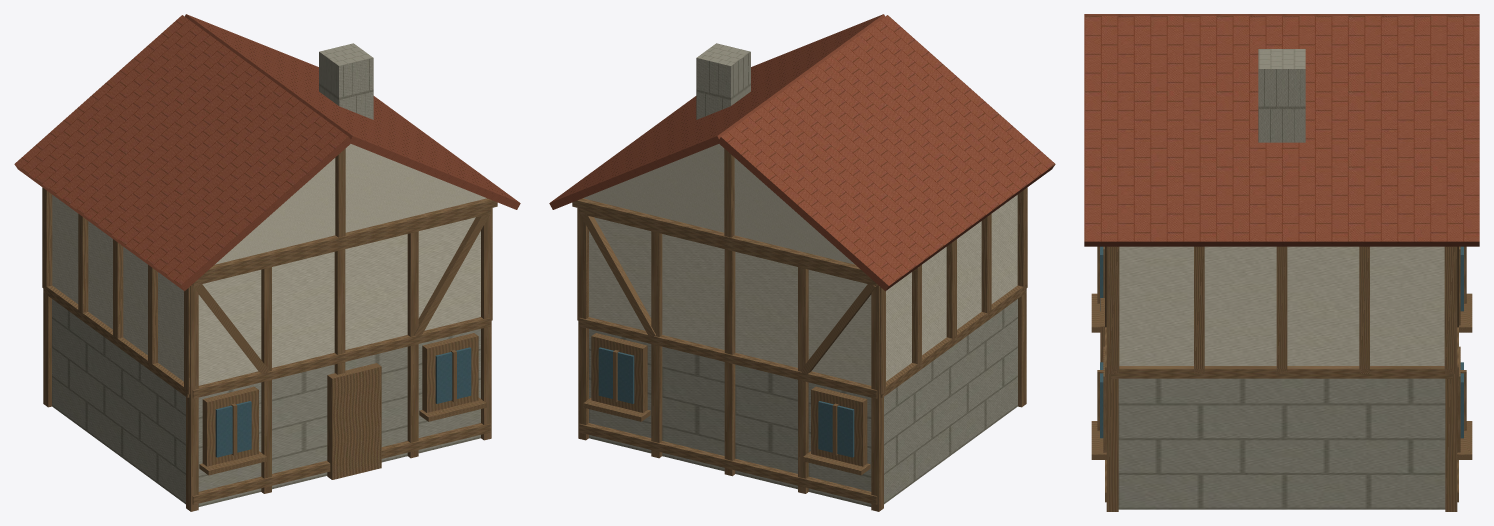
3 renders of one model, left to right at view 1: azimuth 30°, elevation 25°; view 2: azimuth 150°, elevation 25°; view 3: azimuth 270°, elevation 25°, orthographic. The views are drawn at different scales.
Parts seen in each view (by area): view 1: house-roof, house-wood, house-plaster, house-stone, house-glass; view 2: house-roof, house-plaster, house-wood, house-stone, house-glass; view 3: house-roof, house-stone, house-plaster, house-wood, house-glass.
Part boxes in pixels (<box>): house-roof: <box>14,14,520,291</box>; house-wood: <box>42,148,497,511</box>; house-plaster: <box>52,144,486,385</box>; house-stone: <box>52,43,480,506</box>; house-glass: <box>215,347,471,457</box>; house-roof: <box>549,14,1055,291</box>; house-plaster: <box>583,144,1017,385</box>; house-wood: <box>572,148,1027,511</box>; house-stone: <box>589,43,1017,506</box>; house-glass: <box>598,347,854,457</box>; house-roof: <box>1084,14,1479,246</box>; house-stone: <box>1118,49,1445,509</box>; house-plaster: <box>1119,246,1444,365</box>; house-wood: <box>1091,246,1472,511</box>; house-glass: <box>1100,246,1463,438</box>.
Size of the model in its own units: 7.88 by 7.7 by 6.7.
Materials: 5 (5 with a texture image).
